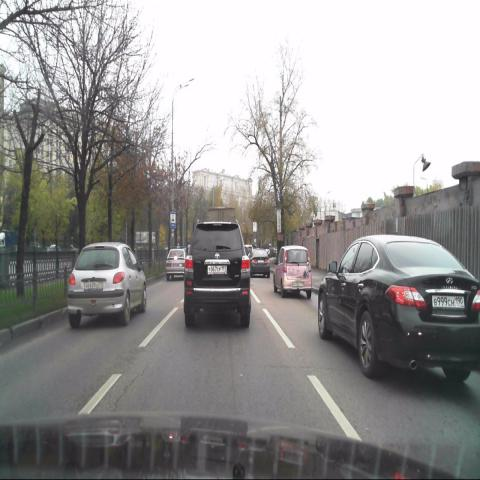7_5: (169, 212, 176, 228)
